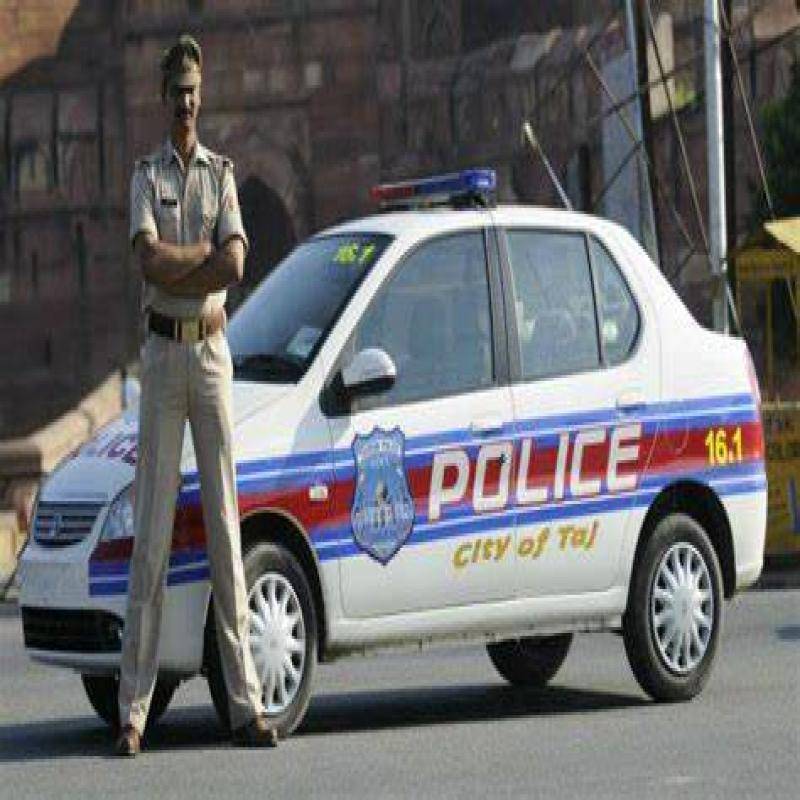AmbulanceSiren: (360, 156, 514, 244)
